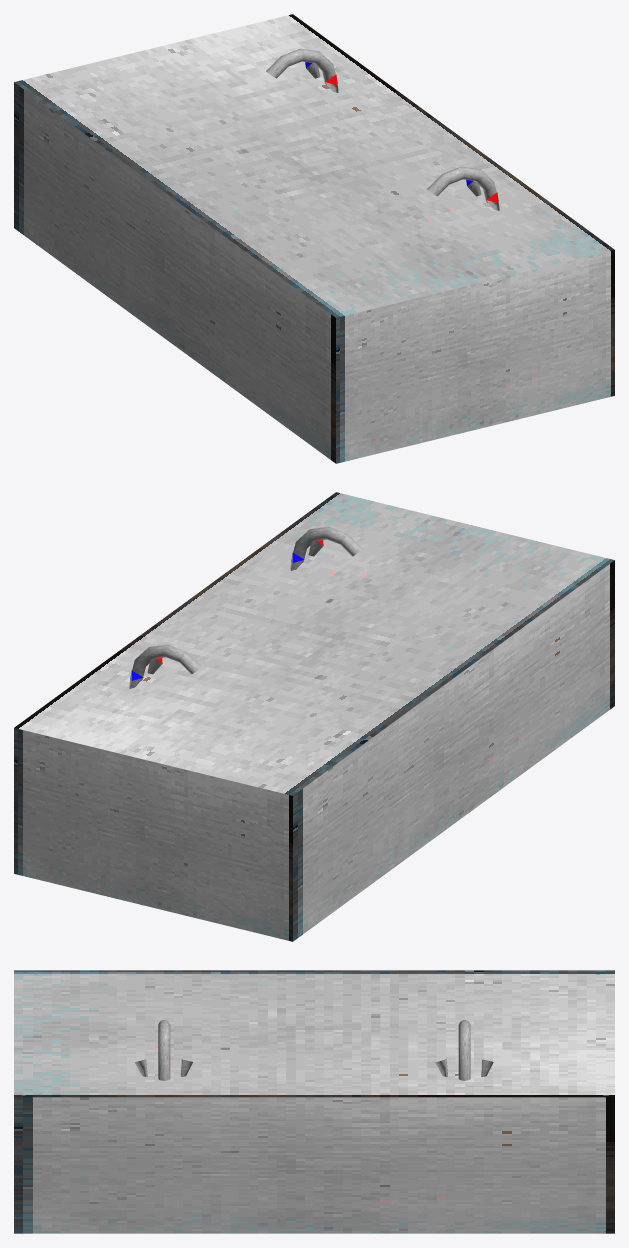
Rendered from sink.FBX.
The picture shows the model from 3 angles, top to bottom: view 1: azimuth 30°, elevation 25°; view 2: azimuth 150°, elevation 25°; view 3: azimuth 270°, elevation 25°; orthographic projection. The views are drawn at different scales.
Parts seen in each view (by area): view 1: sink; view 2: sink; view 3: sink.
Part boxes in pixels (x1,y1,x2,y2): sink: (14, 14, 614, 463); sink: (14, 492, 614, 941); sink: (14, 970, 614, 1233).
Bounding box in the file's own units: 10 × 20 × 6.42.
Materials: 4 (2 with a texture image).
